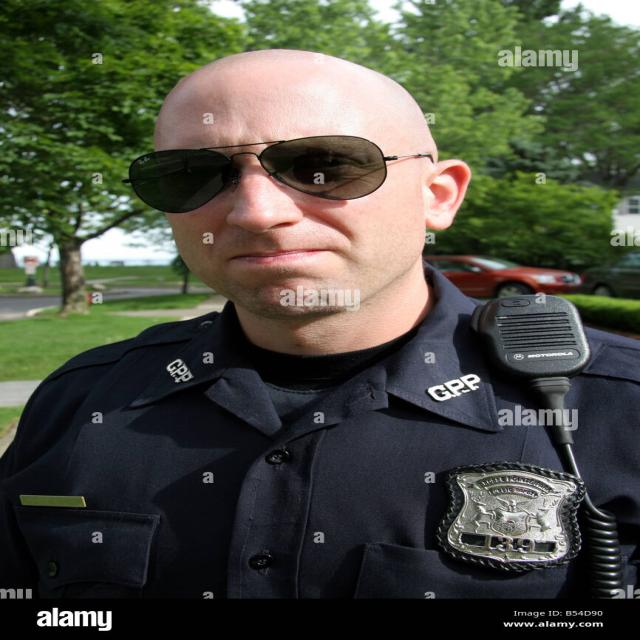police: (10, 23, 627, 596)
